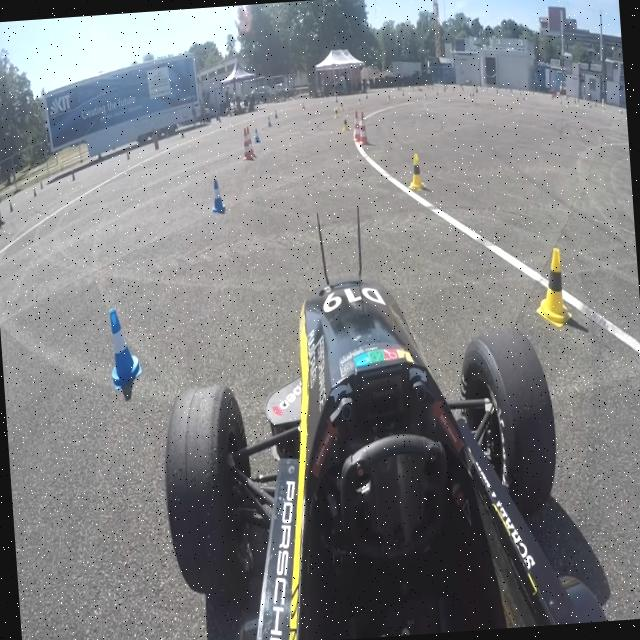blue_cone: (106, 304, 144, 392), (210, 177, 227, 214)
large_orange_cone: (240, 125, 252, 161), (357, 110, 369, 144), (244, 124, 256, 158), (352, 109, 362, 142)
yellow_cone: (533, 246, 573, 330), (406, 151, 426, 192)
